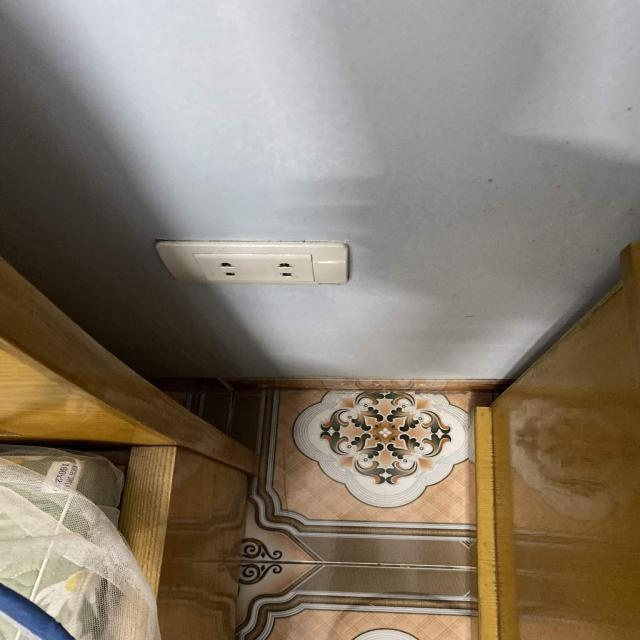outlet: (154, 240, 349, 285)
